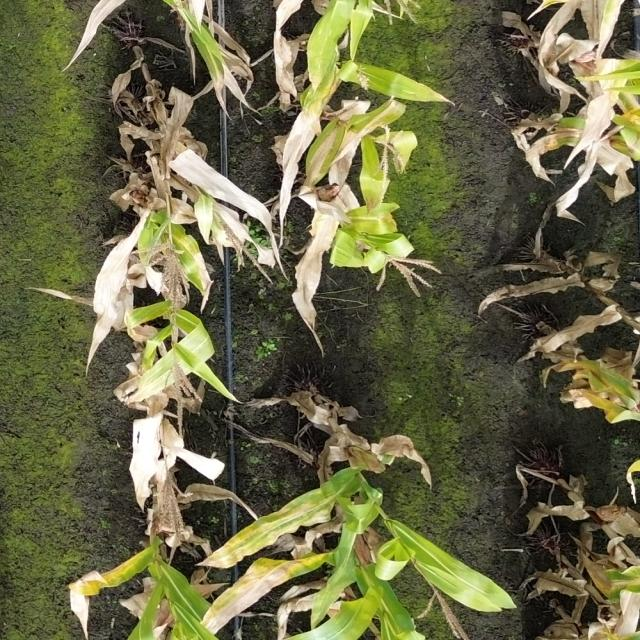gray-leaf-spot: (298, 23, 338, 109)
northern-leaf-blight: (200, 485, 348, 640), (558, 359, 640, 424), (157, 224, 220, 308), (70, 543, 156, 601)
